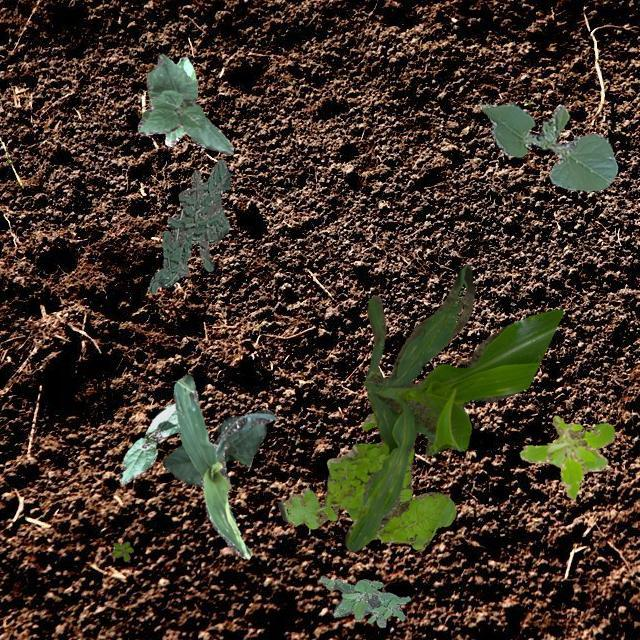crop: (343, 264, 562, 550), (172, 373, 276, 558), (478, 100, 616, 190), (136, 53, 232, 154), (162, 416, 266, 486), (118, 401, 178, 484), (164, 56, 197, 146)
weed: (276, 412, 454, 548), (148, 158, 230, 292), (518, 414, 614, 498), (320, 574, 410, 626), (111, 540, 132, 560)
